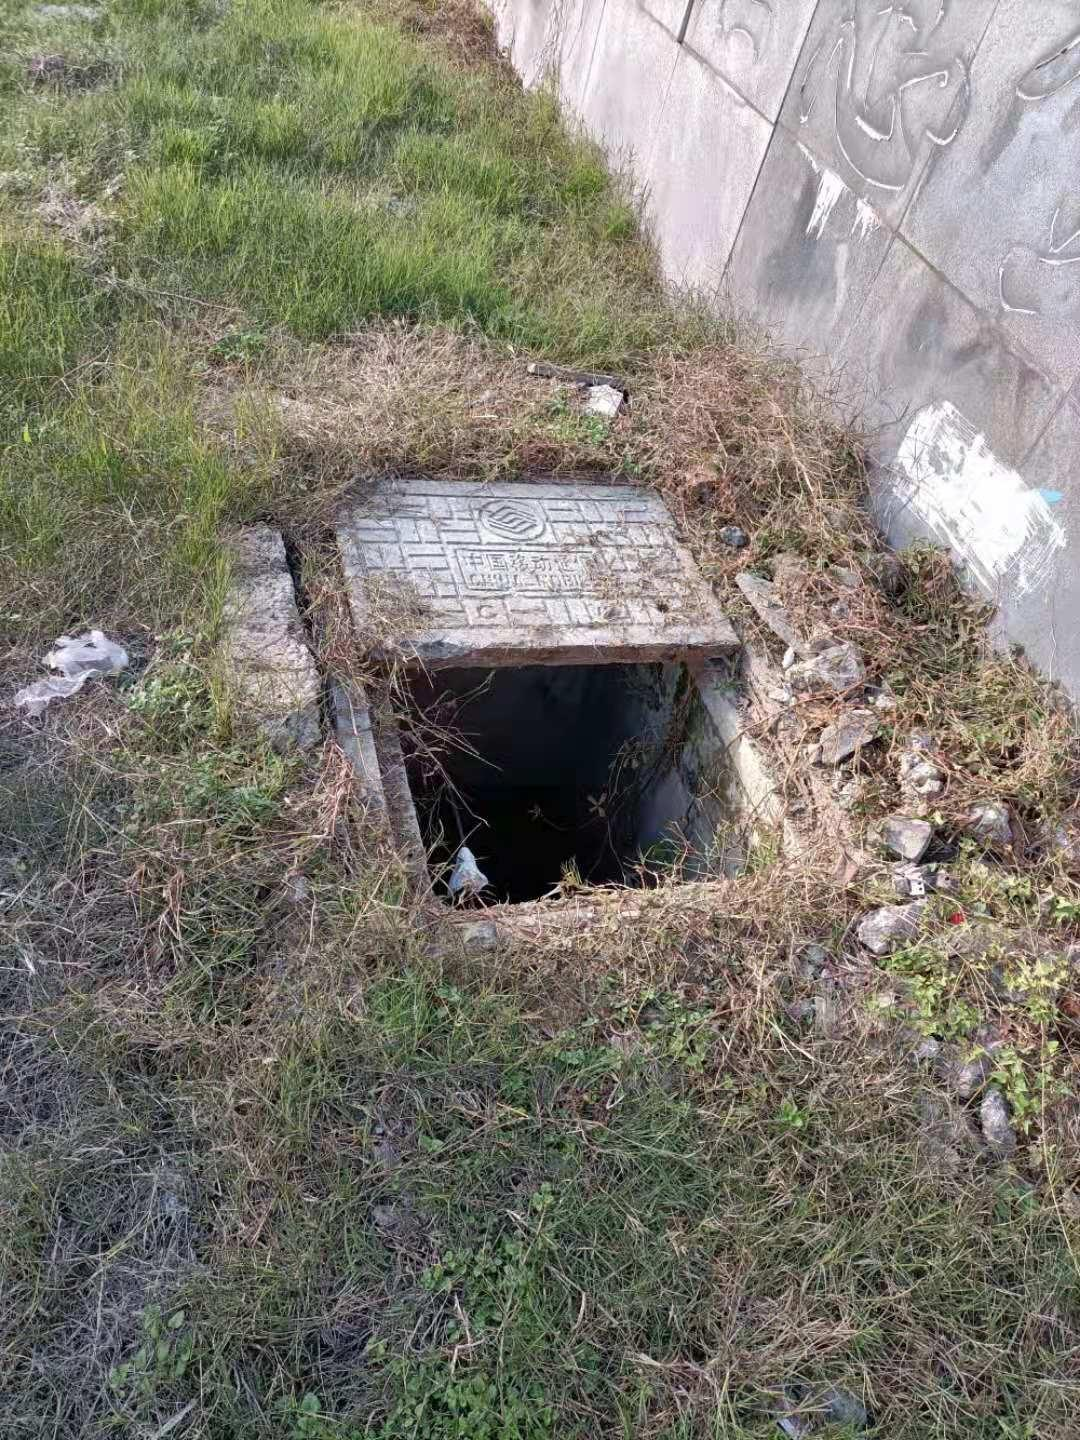wellcover: (265, 435, 793, 956)
